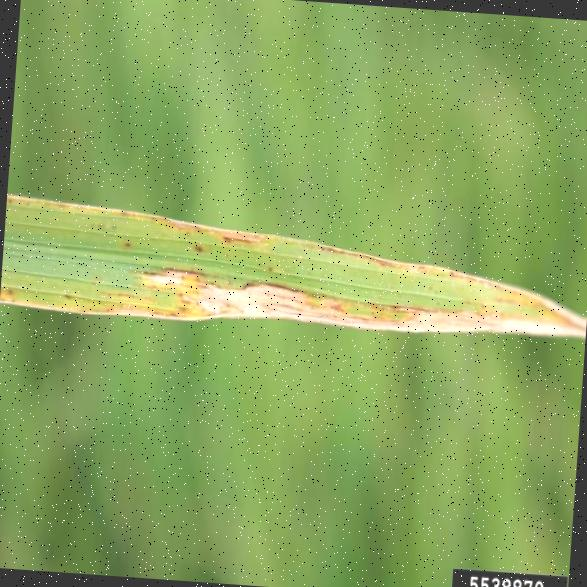Bacteria_Leaf_Blight: (78, 256, 578, 354), (2, 189, 486, 290)
